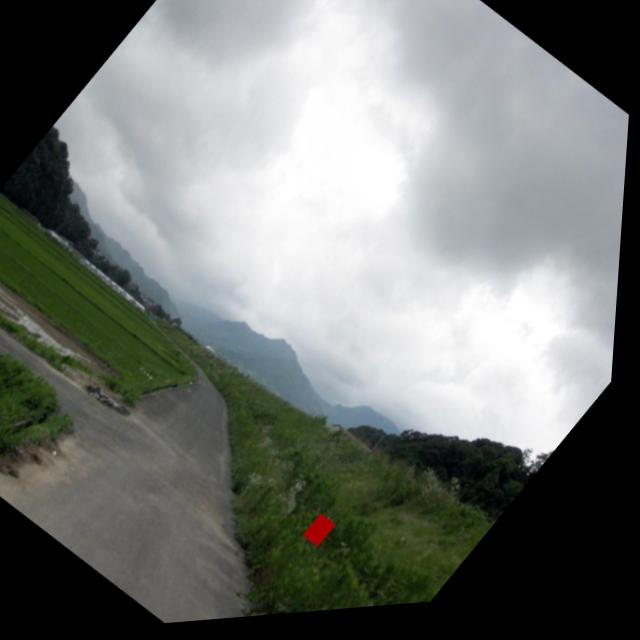RedSquare: (302, 511, 352, 564)
